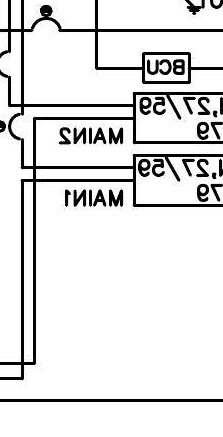BCU: (141, 51, 192, 85)
